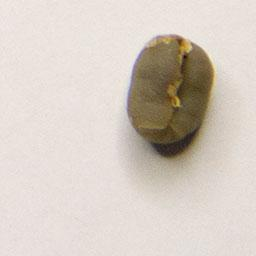peaberry: (121, 31, 217, 147)
